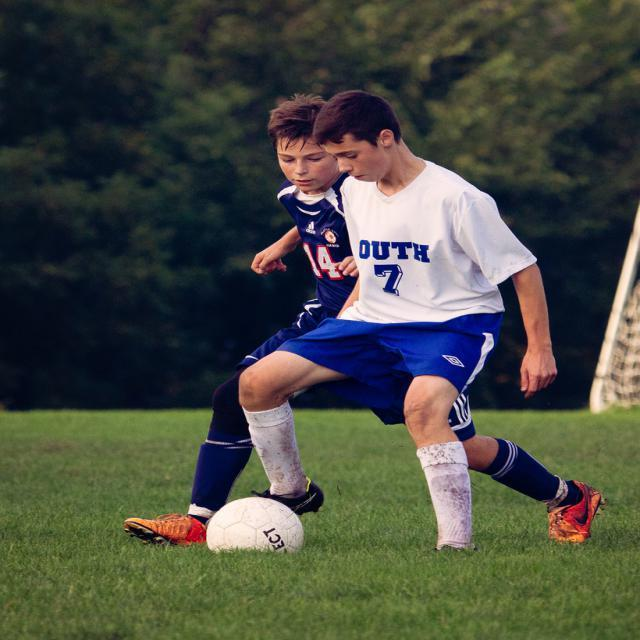football: (201, 481, 313, 582)
